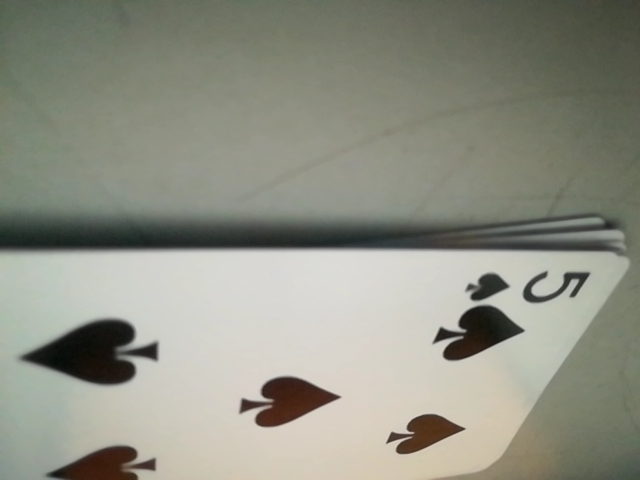ht 5: (459, 260, 601, 304)
